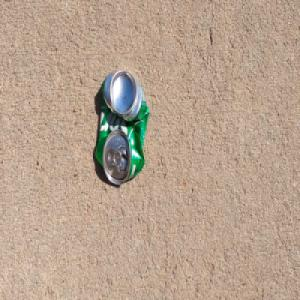SodaCan: (94, 68, 150, 187)
